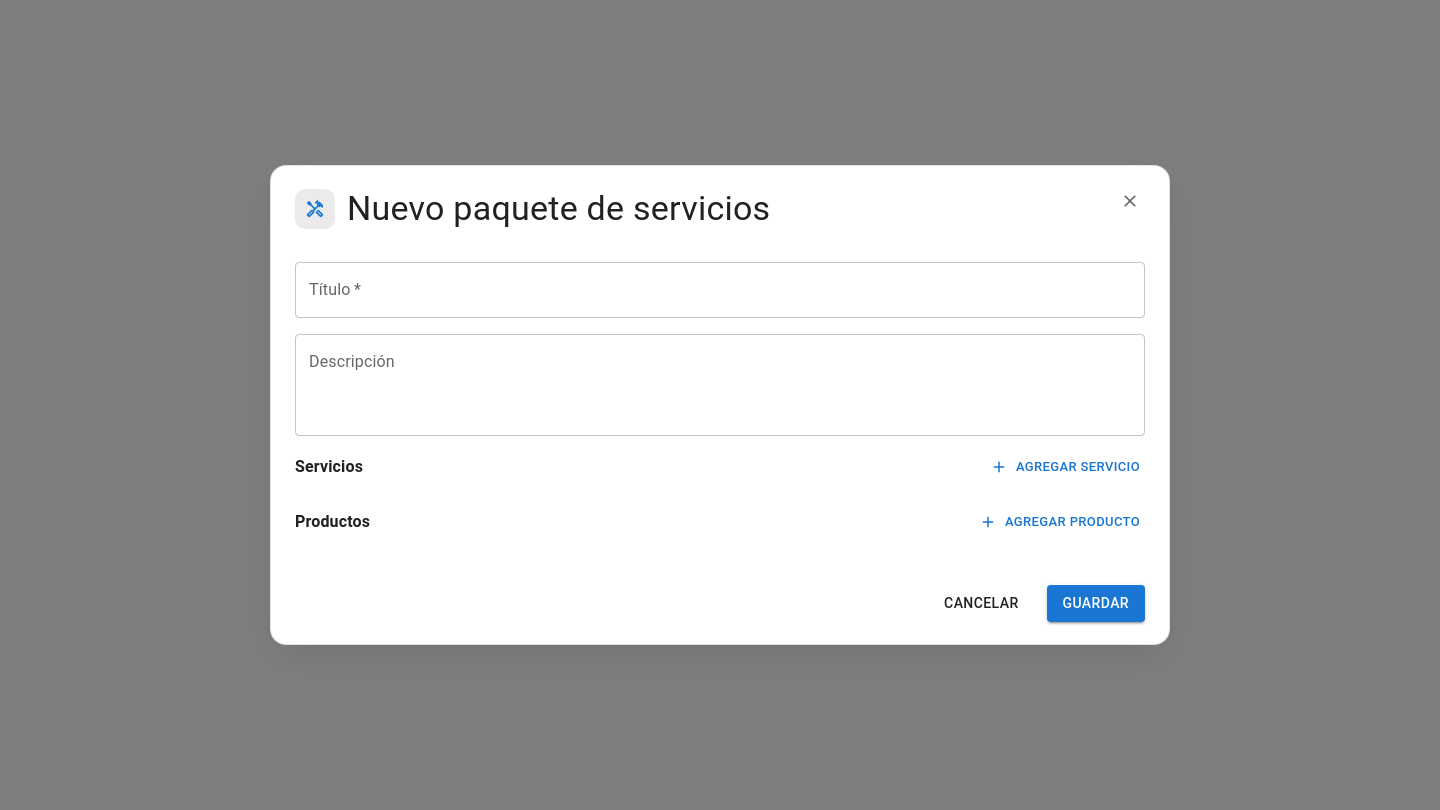
CannedJobFormDialog › given form, when clicking agregar servicio, then adds a service row
What coordinates should you click on to do the following:
click the button "Agregar servicio"
I would click on:
 (1066, 467)
Its box is [987, 452, 1145, 483].
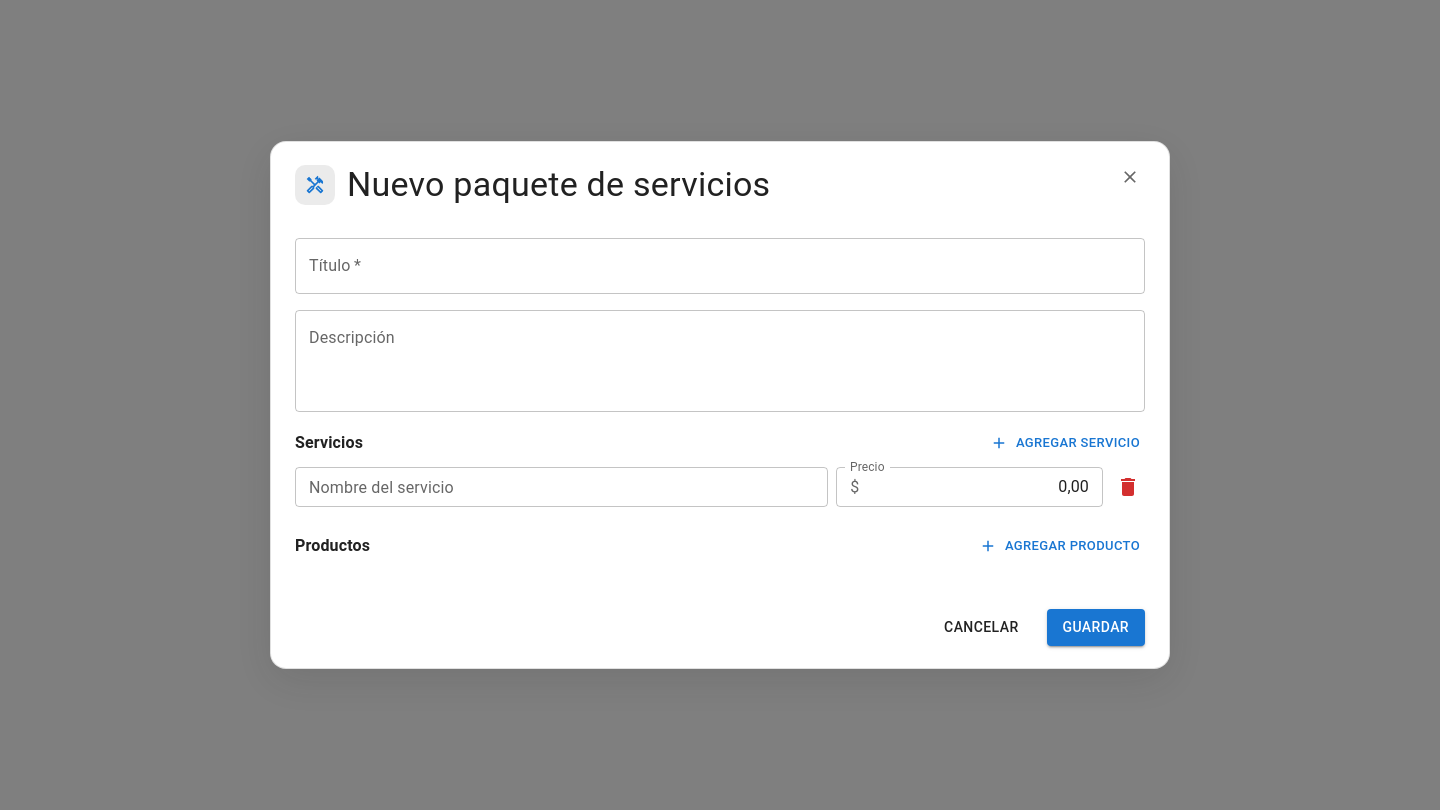
Check: the dropdown labelled "Nombre del servicio" is shown, box [301, 473, 819, 501]
Check: the field labelled "Precio" is shown, box [868, 467, 1103, 507]
